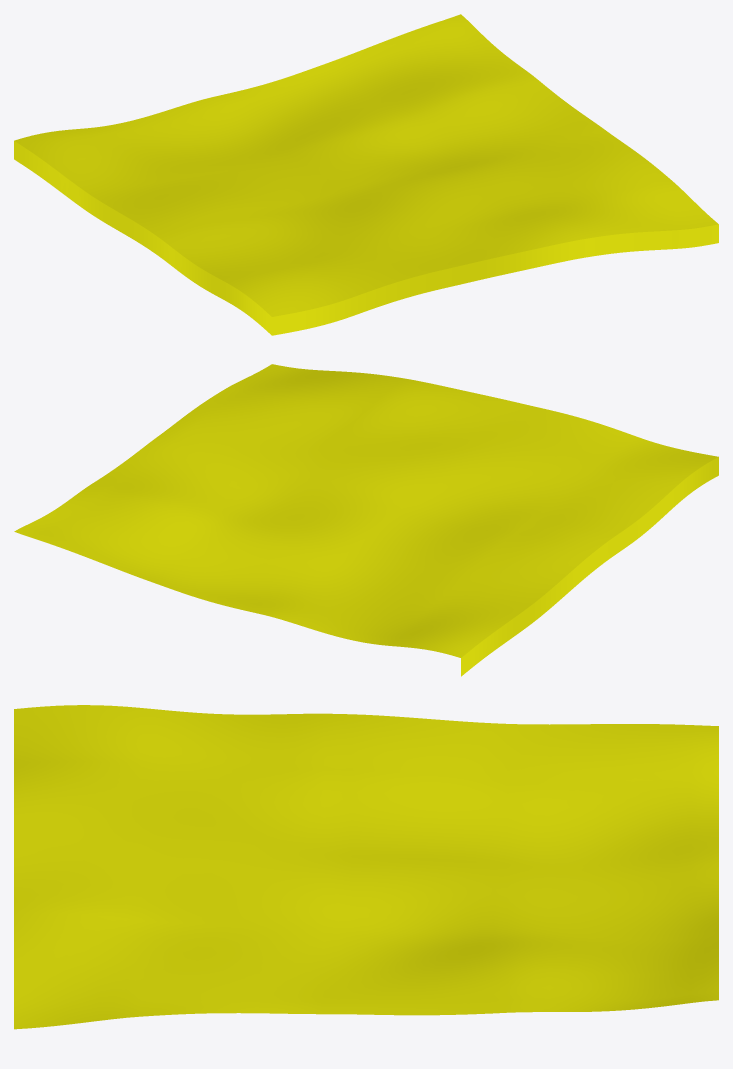
Rendered from terrain_0_0.glb.
3 views of the same model, one above another, from view 1: azimuth 30°, elevation 25°; view 2: azimuth 150°, elevation 25°; view 3: azimuth 270°, elevation 25° (orthographic). The views are drawn at different scales.
Visible parts, largest first — view 1: terrain_0_0.0, terrain_0_0.1; view 2: terrain_0_0.0, terrain_0_0.1; view 3: terrain_0_0.0.
Part boxes in pixels (box(x1,y1,x2,y2)): terrain_0_0.0: box(14, 14, 718, 316); terrain_0_0.1: box(14, 141, 718, 335); terrain_0_0.0: box(14, 364, 718, 657); terrain_0_0.1: box(461, 457, 718, 676); terrain_0_0.0: box(14, 705, 718, 1029).
Bounding box in the file's own units: 50 × 4.34 × 50.
